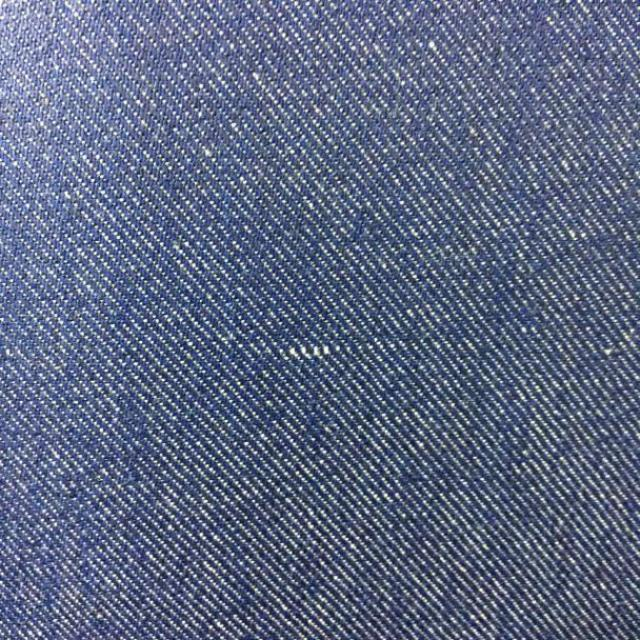Knot: (280, 343, 341, 361)
